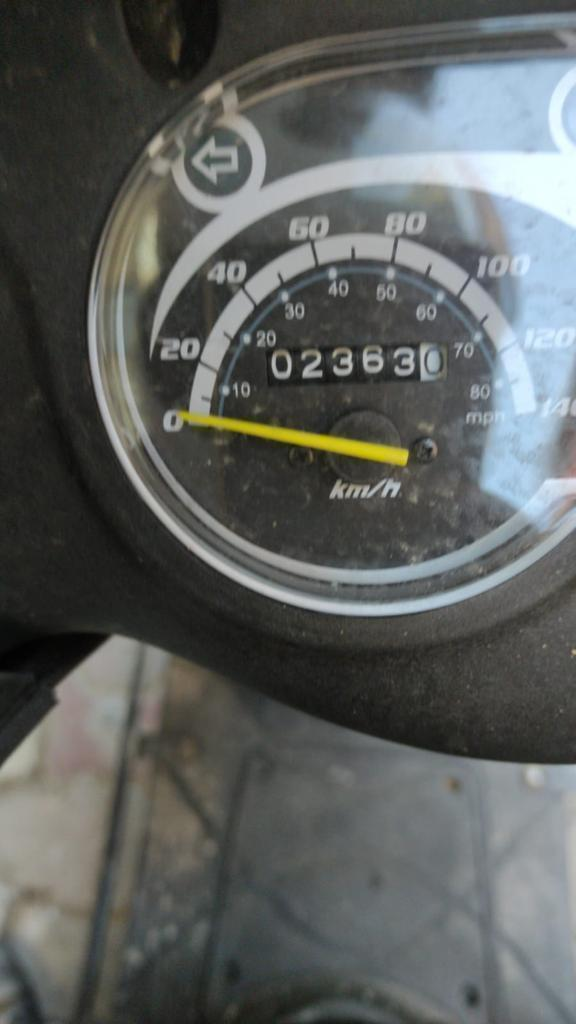0: (270, 348, 293, 380), (424, 347, 443, 376)
2: (300, 347, 323, 379)
3: (392, 345, 415, 377), (331, 345, 353, 377)
6: (362, 343, 384, 373)
odometer: (266, 341, 454, 393)
